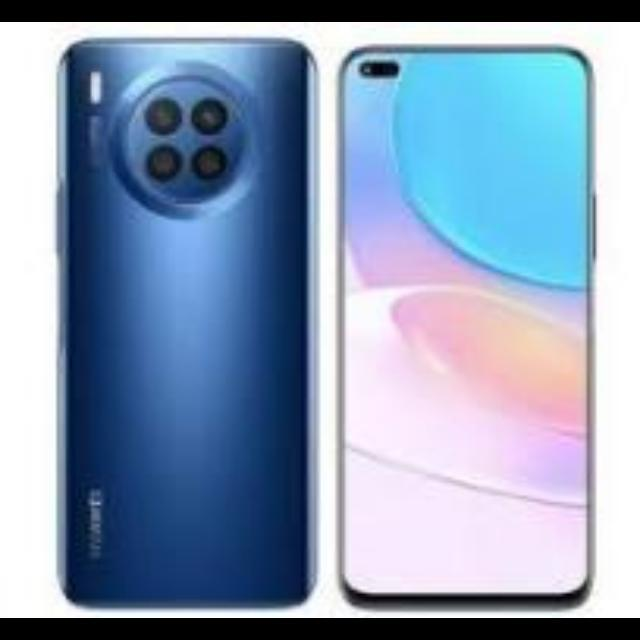Phone: (51, 34, 320, 612), (340, 41, 602, 611)
